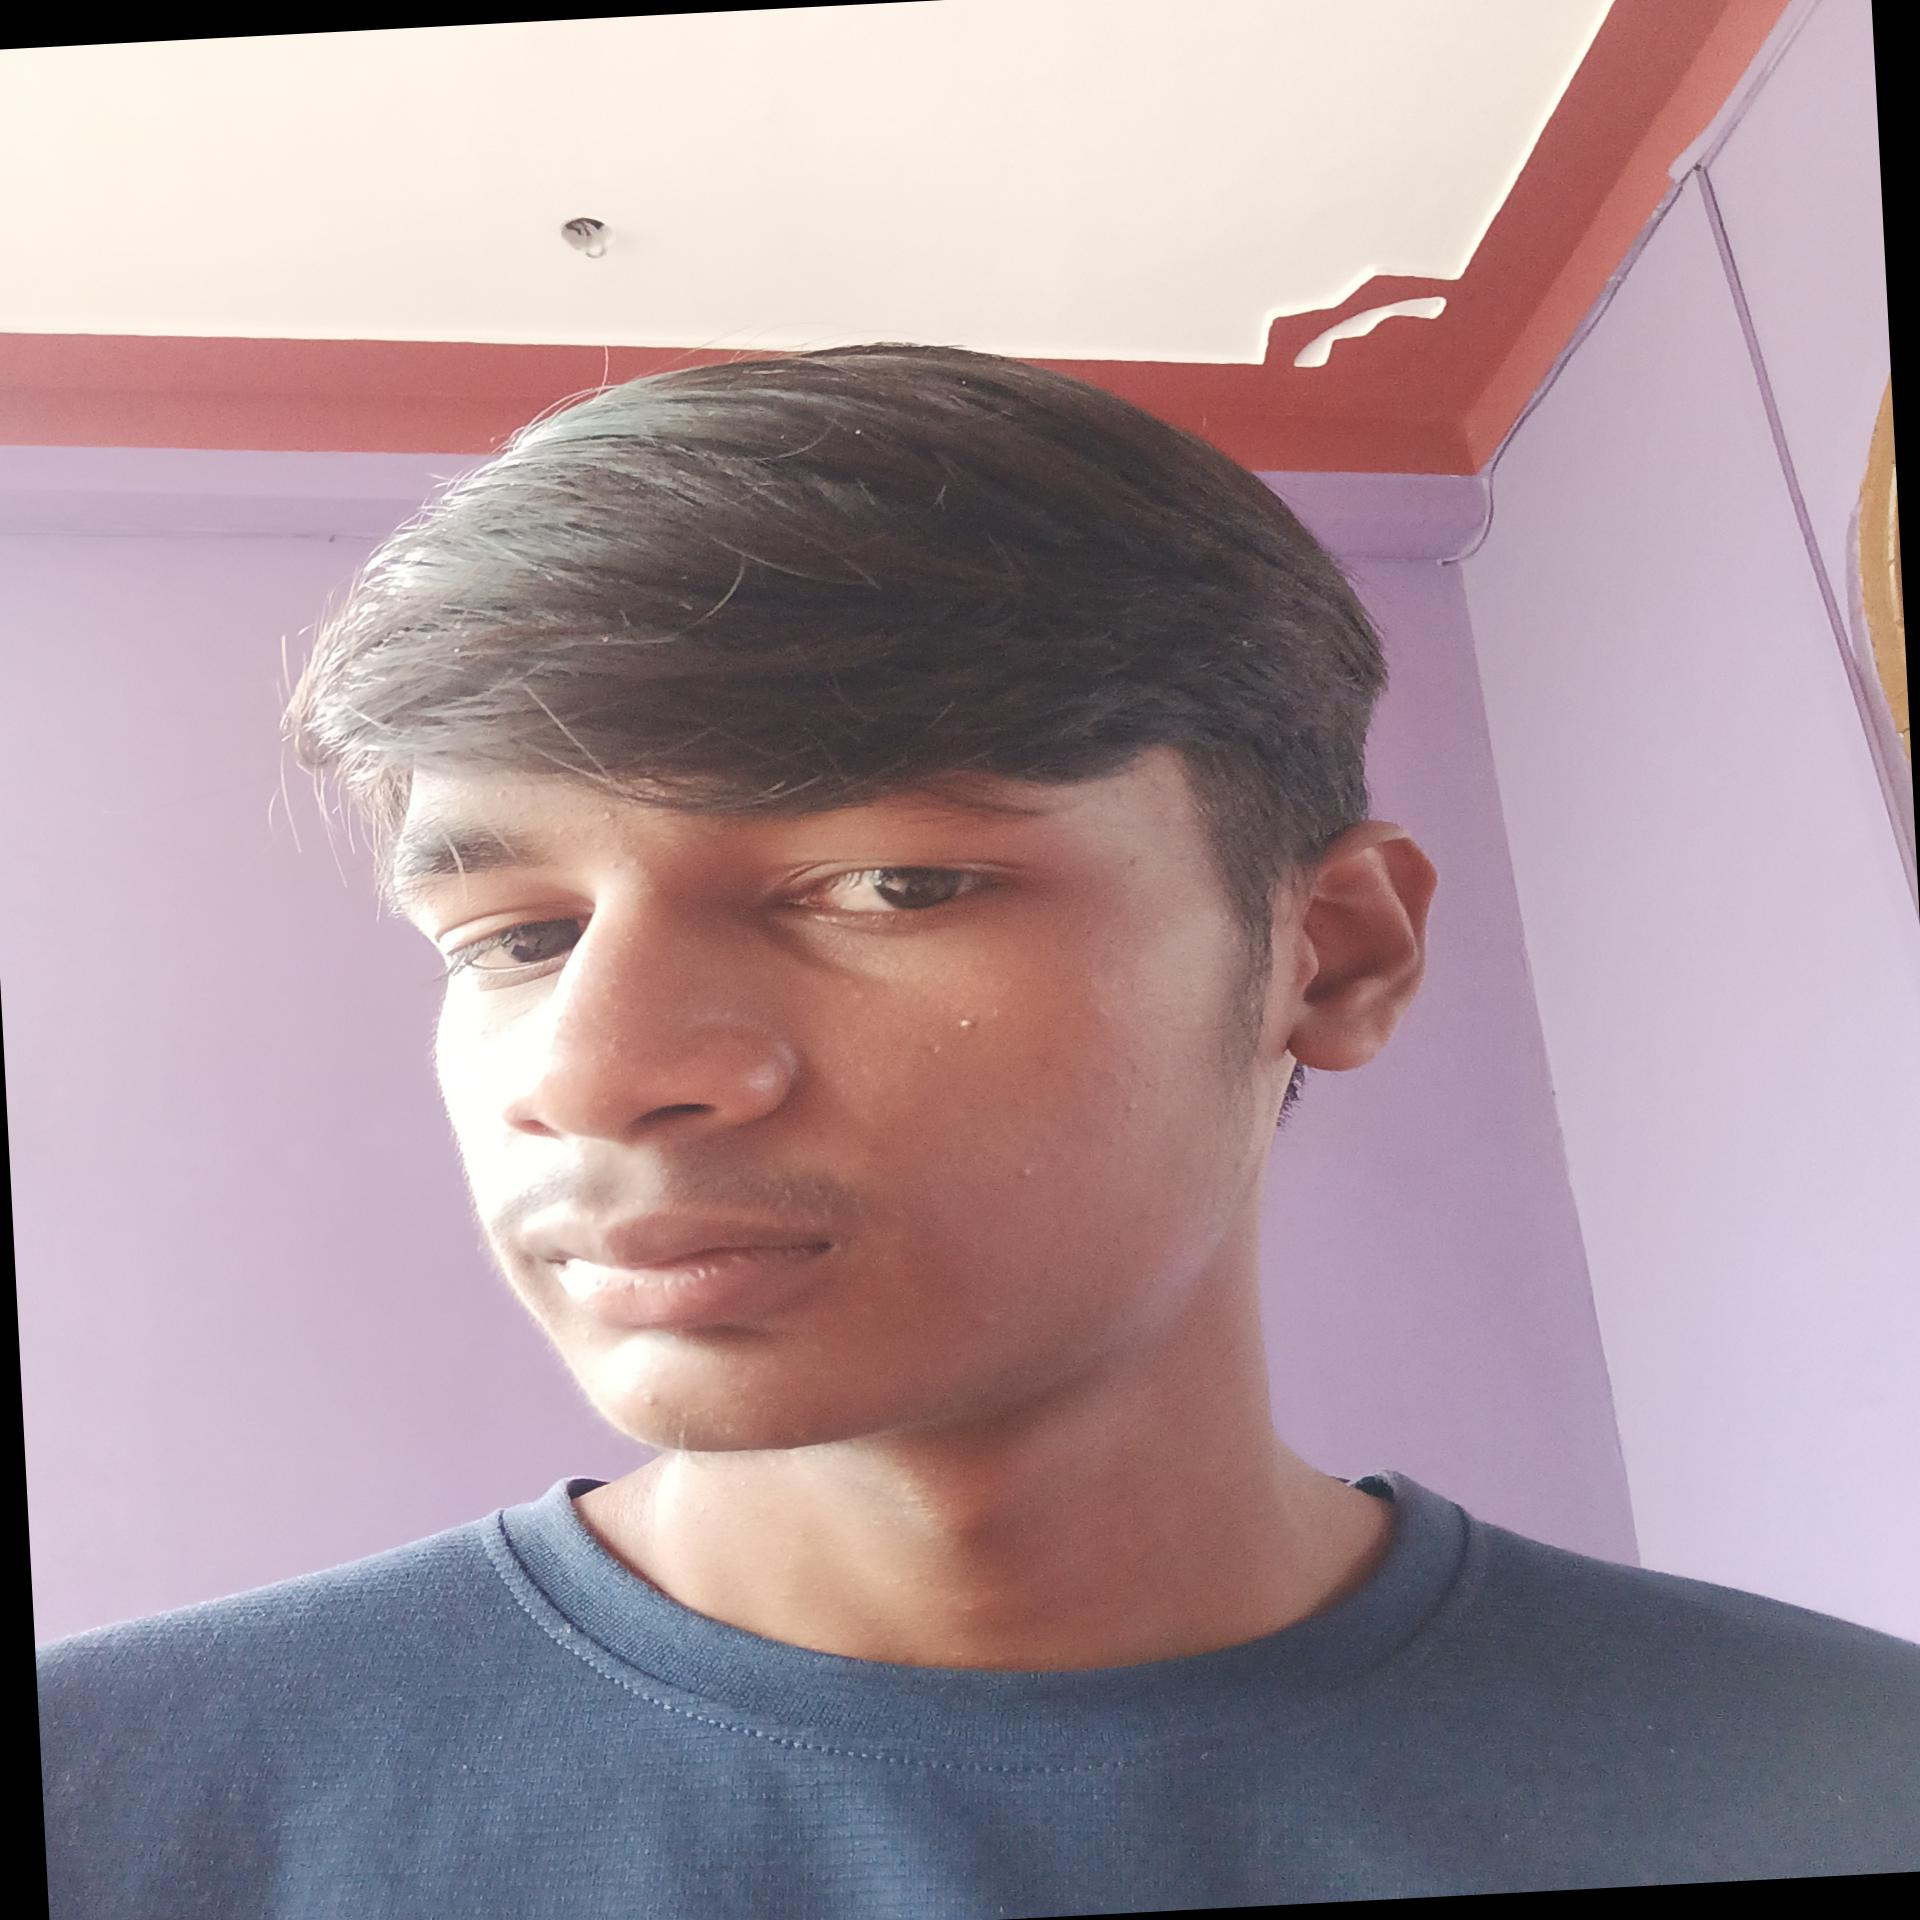Acne: (575, 1020, 642, 1078), (951, 1000, 1002, 1034), (593, 805, 622, 862), (621, 1378, 663, 1414), (962, 1306, 1007, 1338), (1109, 1095, 1150, 1118), (1013, 1164, 1039, 1183)
